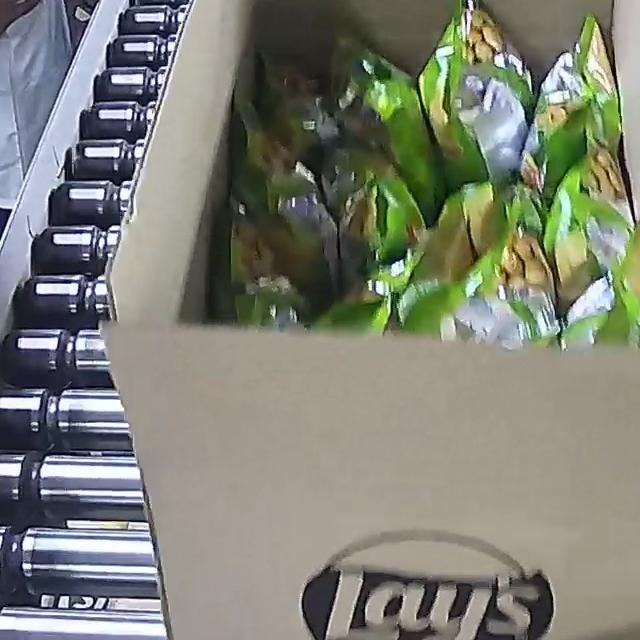yogurt: (215, 0, 640, 351)
